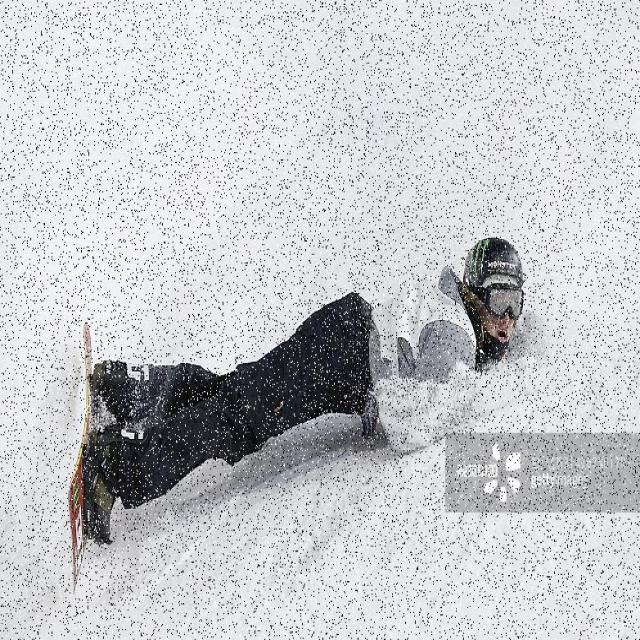fall: (82, 235, 522, 512)
